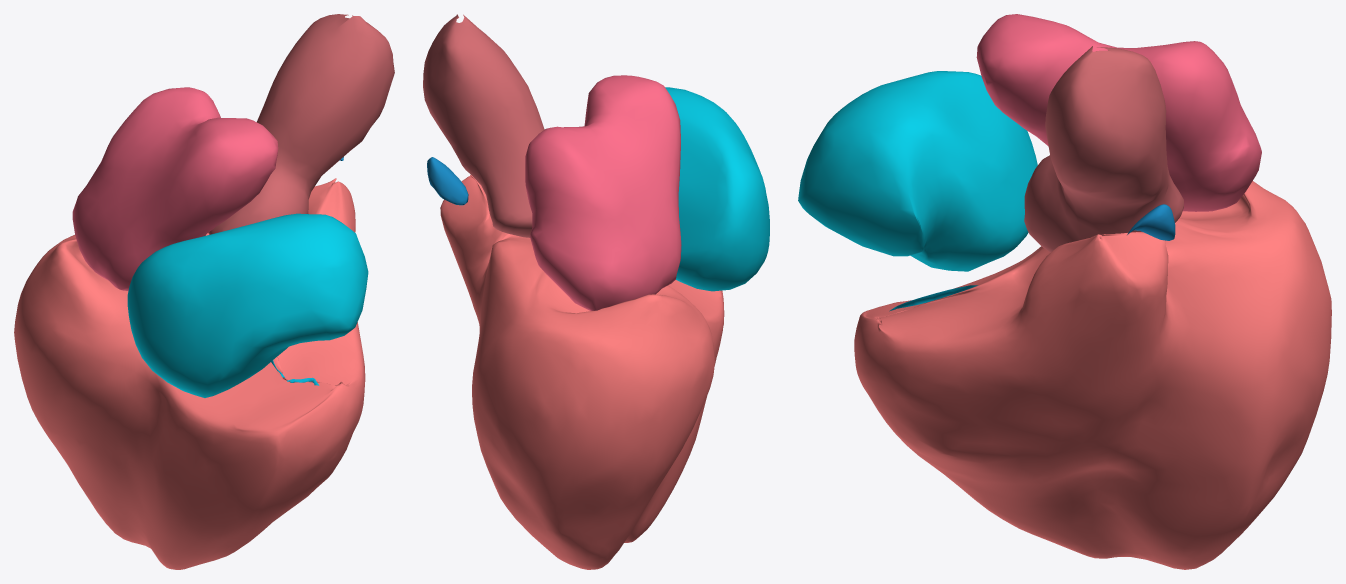
File: frame_26.glb
The picture shows the model from 3 angles, left to right: view 1: azimuth 30°, elevation 25°; view 2: azimuth 150°, elevation 25°; view 3: azimuth 270°, elevation 25°; orthographic projection. The views are drawn at different scales.
Visible parts, largest first — view 1: Renderer Node; view 2: Renderer Node; view 3: Renderer Node.
Boxes of the visible parts, <box> form: Renderer Node: <box>14,14,394,569</box>; Renderer Node: <box>423,14,769,569</box>; Renderer Node: <box>798,14,1331,569</box>.
Size of the model in its own units: 98.5 by 151 by 119.
